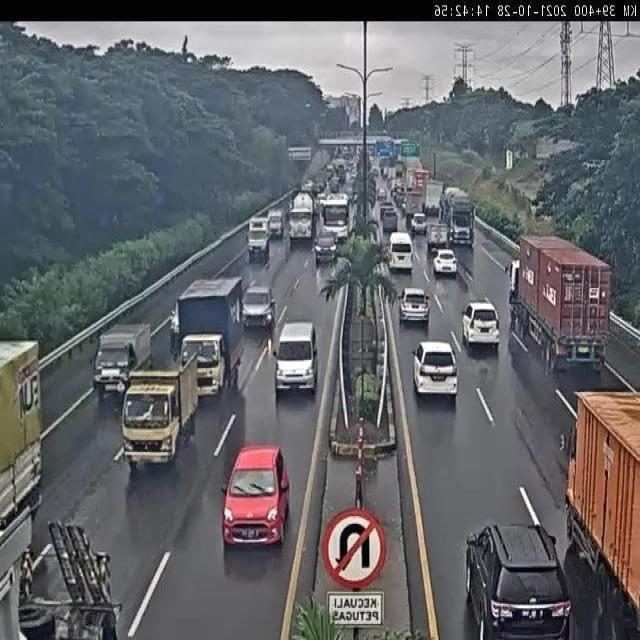Car: (466, 523, 572, 640), (221, 442, 290, 546), (413, 340, 458, 398), (462, 300, 500, 348), (398, 286, 430, 324), (313, 230, 338, 264), (432, 250, 458, 278), (410, 212, 428, 235), (377, 187, 387, 200)
Truck: (564, 391, 640, 639), (512, 236, 613, 378), (120, 351, 203, 470), (172, 278, 246, 393), (93, 322, 152, 406), (443, 188, 476, 248), (320, 193, 351, 247), (287, 192, 316, 245), (246, 217, 272, 262), (424, 182, 444, 222), (426, 223, 448, 253)
Van: (273, 320, 317, 395), (388, 232, 414, 272)
